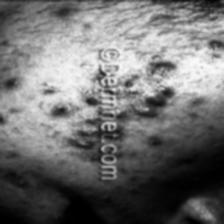Non-Cancerous Skin Condition: (122, 34, 224, 168), (0, 64, 85, 200)
